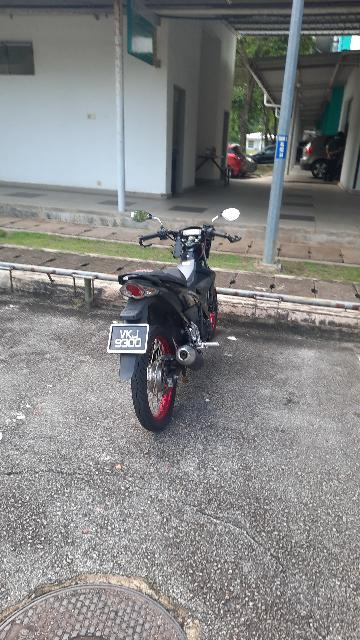License_Plate: (106, 324, 151, 356)
motorcycle: (106, 209, 247, 433)
